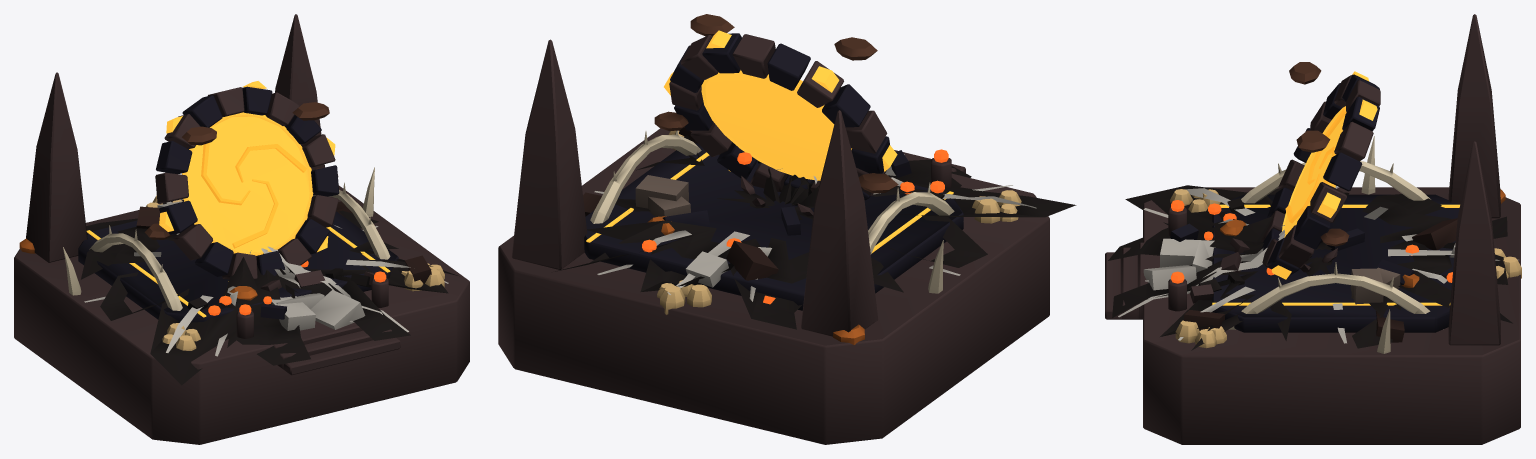
Rendered from gate-ring-amnion.glb.
The picture shows the model from 3 angles, left to right: view 1: azimuth 30°, elevation 25°; view 2: azimuth 150°, elevation 25°; view 3: azimuth 270°, elevation 25°; orthographic projection. The views are drawn at different scales.
Visible parts, largest first — view 1: site_gate_ring_amnion_body, site_gate_ring_amnion_ruin, site_gate_ring_amnion_core; view 2: site_gate_ring_amnion_body, site_gate_ring_amnion_ruin, site_gate_ring_amnion_core; view 3: site_gate_ring_amnion_body, site_gate_ring_amnion_ruin, site_gate_ring_amnion_core.
Part boxes in pixels (x1,y1,x2,y2): site_gate_ring_amnion_body: (14, 14, 469, 444); site_gate_ring_amnion_ruin: (81, 195, 459, 385); site_gate_ring_amnion_core: (186, 116, 309, 252); site_gate_ring_amnion_body: (498, 14, 1049, 444); site_gate_ring_amnion_ruin: (555, 127, 1076, 329); site_gate_ring_amnion_core: (705, 70, 851, 177); site_gate_ring_amnion_body: (1105, 14, 1521, 444); site_gate_ring_amnion_ruin: (1108, 185, 1518, 350); site_gate_ring_amnion_core: (1284, 107, 1346, 237).
Bounding box in the file's own units: 5.21 × 4.05 × 5.4.
